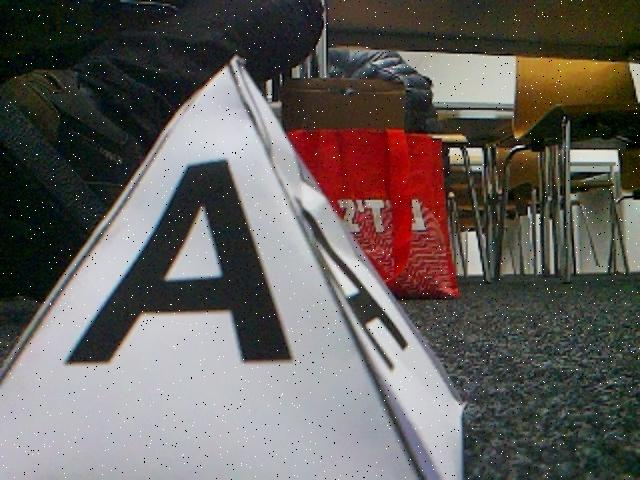A: (0, 56, 463, 479)
